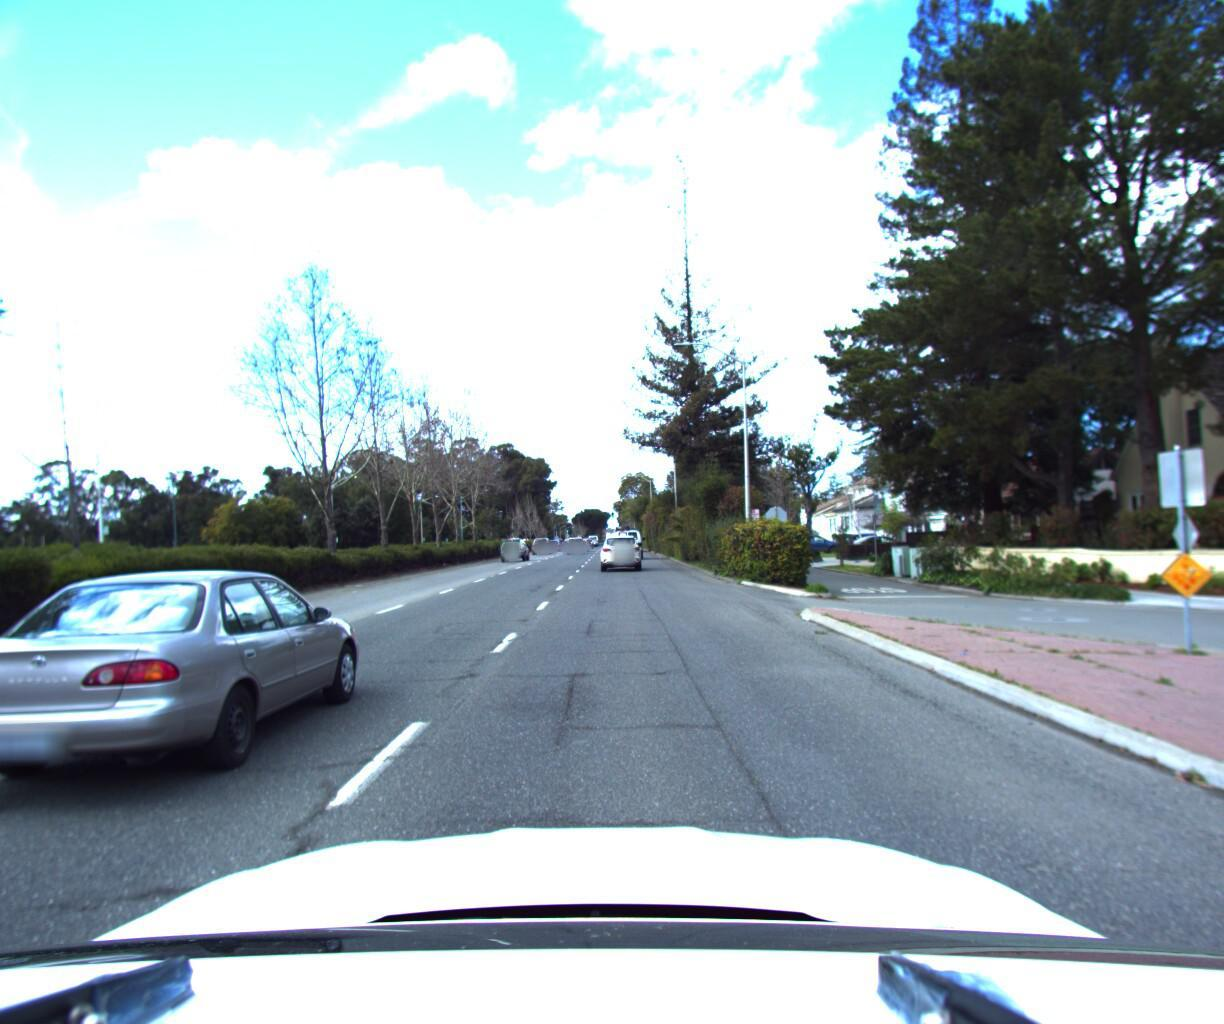car: (0, 558, 381, 837), (599, 535, 644, 578), (787, 534, 849, 558), (614, 527, 650, 563), (500, 540, 533, 566), (531, 541, 555, 559), (567, 539, 589, 558)
